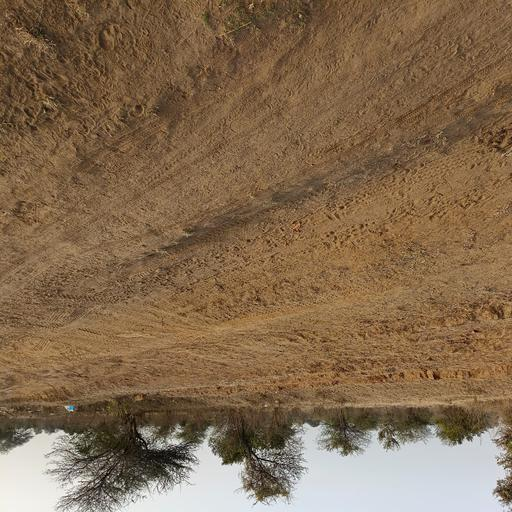vehicle_track: (0, 0, 512, 307)
